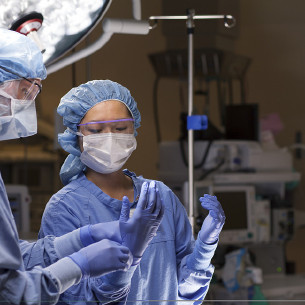face_mask: (78, 102, 133, 173), (1, 73, 42, 143)
